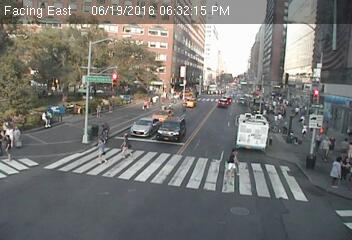neg: (282, 121, 300, 146), (281, 70, 293, 85), (305, 95, 311, 102)
pos: (219, 146, 247, 183), (325, 155, 350, 189), (117, 132, 138, 160), (6, 122, 25, 148), (318, 136, 337, 162), (90, 139, 108, 163), (38, 107, 55, 129), (339, 156, 351, 183), (326, 132, 340, 151), (299, 120, 312, 138), (341, 135, 351, 151), (101, 123, 111, 137), (293, 104, 302, 117)
